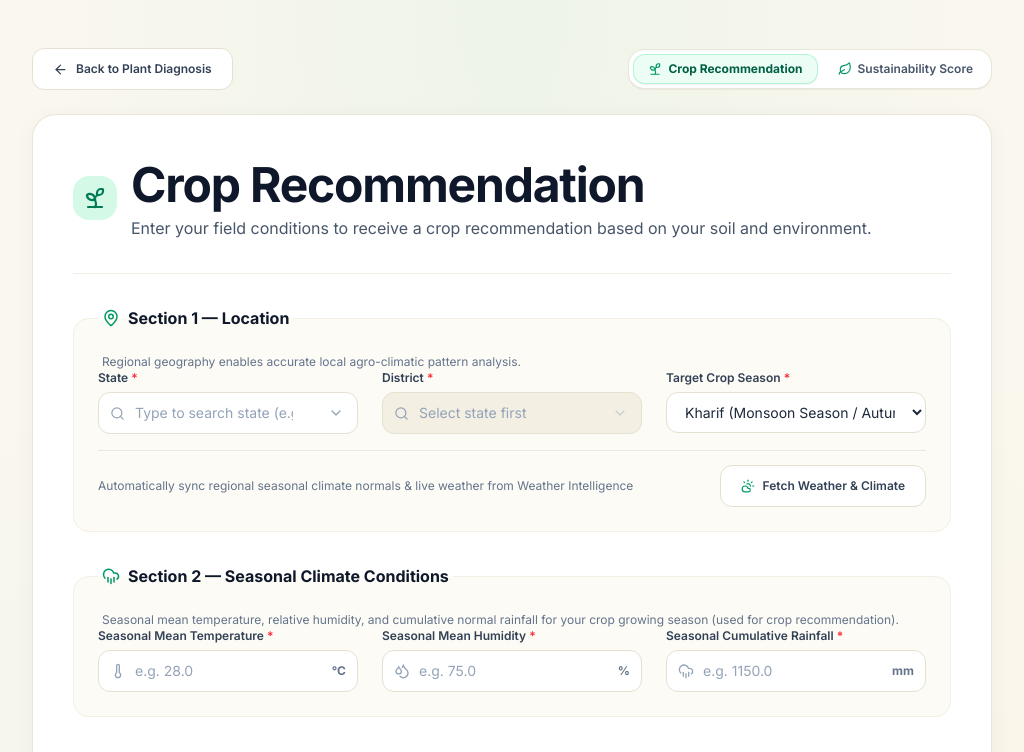
Scenario: Searchable Dropdown Location Input UI › successfully auto-fetches weather and climate for selected state and district
The image size is (1024, 752).
Type "Gujarat" into the dropdown labelled "State *" at (228, 413), box [98,392,358,434]
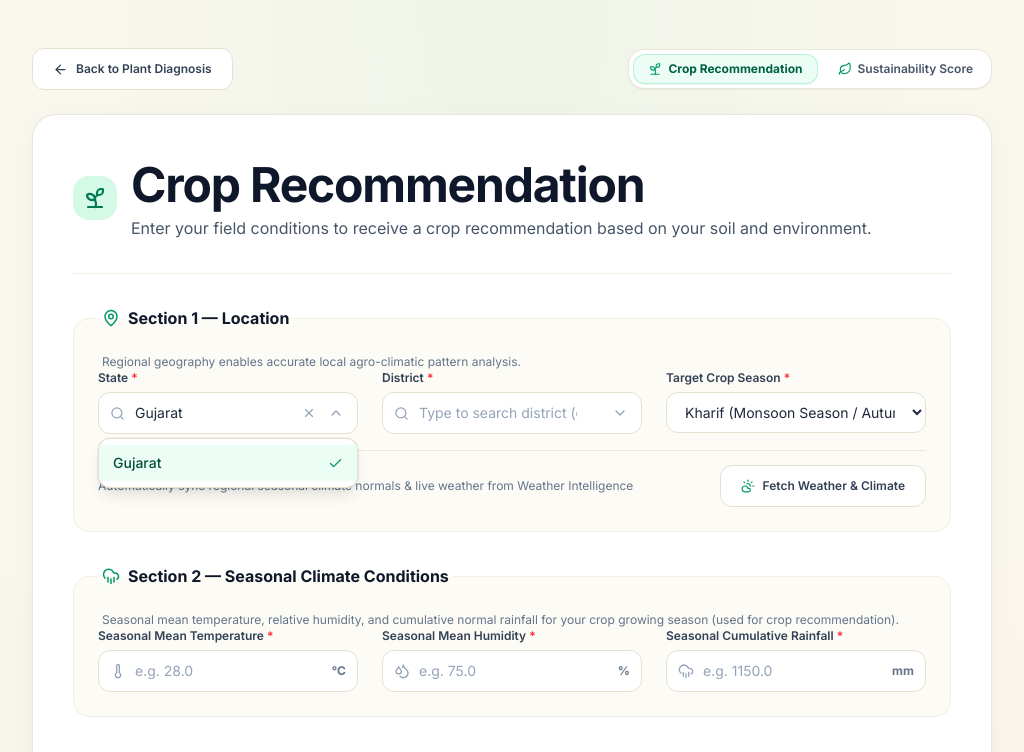
Type "Ahmedabad" into the dropdown labelled "District *" at (512, 413), box [382,392,642,434]
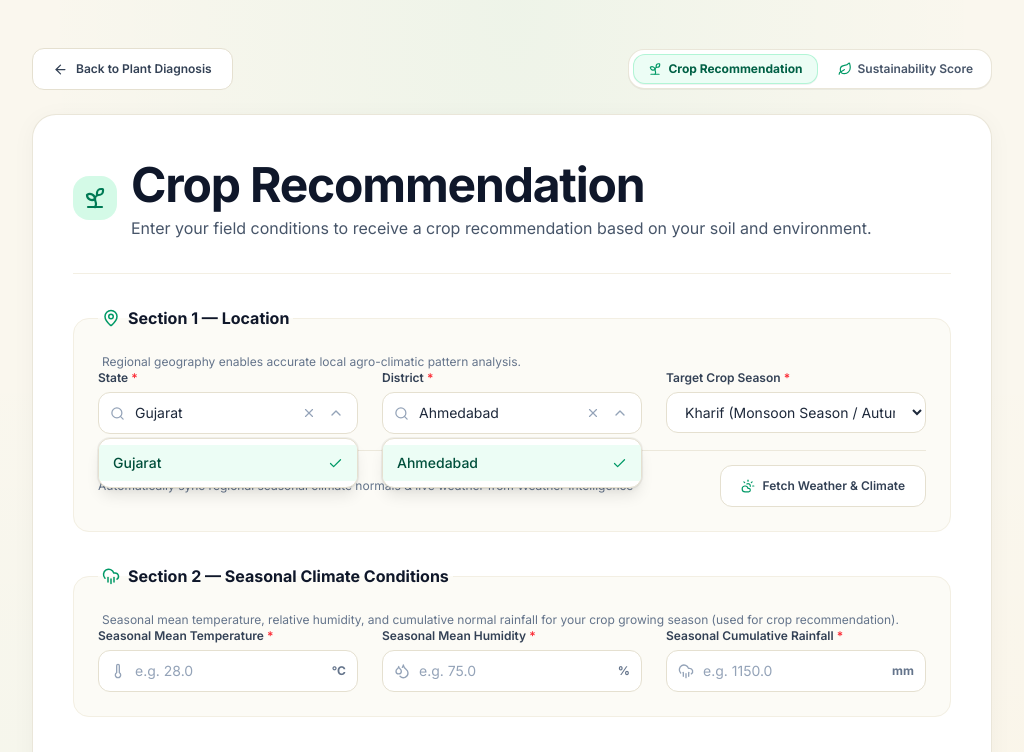
Click the button with aria-label "auto-fetch weather and climate data for location" at (823, 486), box [720,465,926,507]
(page scrolled)
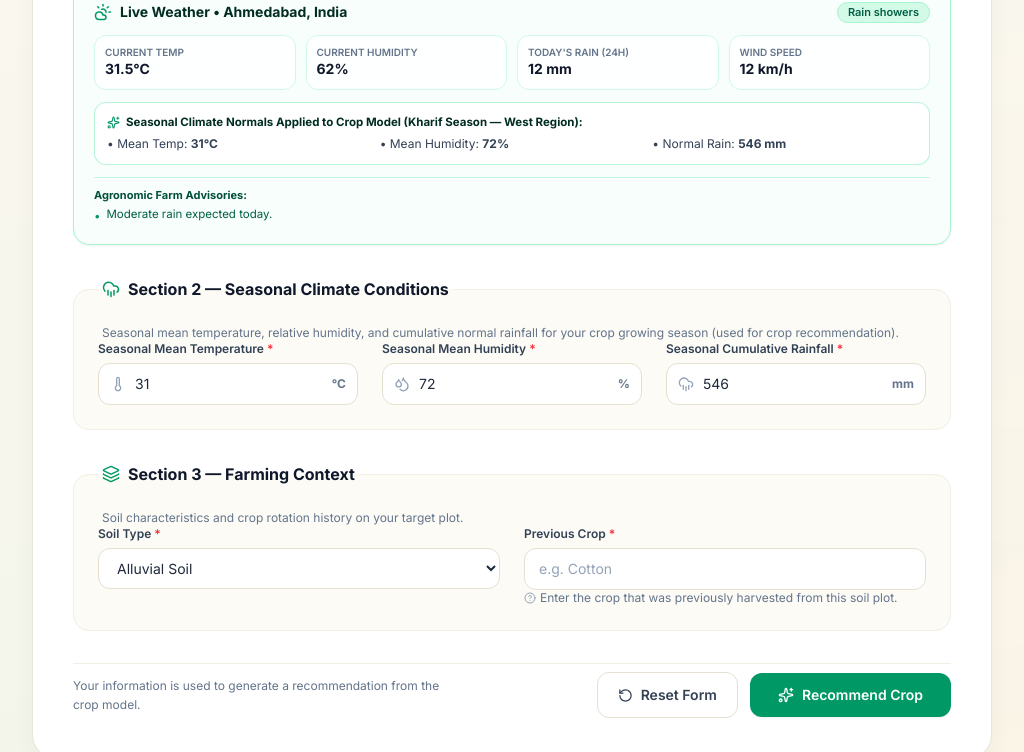
Expected: the text "Live Weather • Ahmedabad, India" is shown, [120,2,347,22]
Expected: the number field labelled "Seasonal Mean Temperature *" holds "31", [98,363,358,405]
Expected: the number field labelled "Seasonal Mean Humidity *" holds "72", [382,363,642,405]
